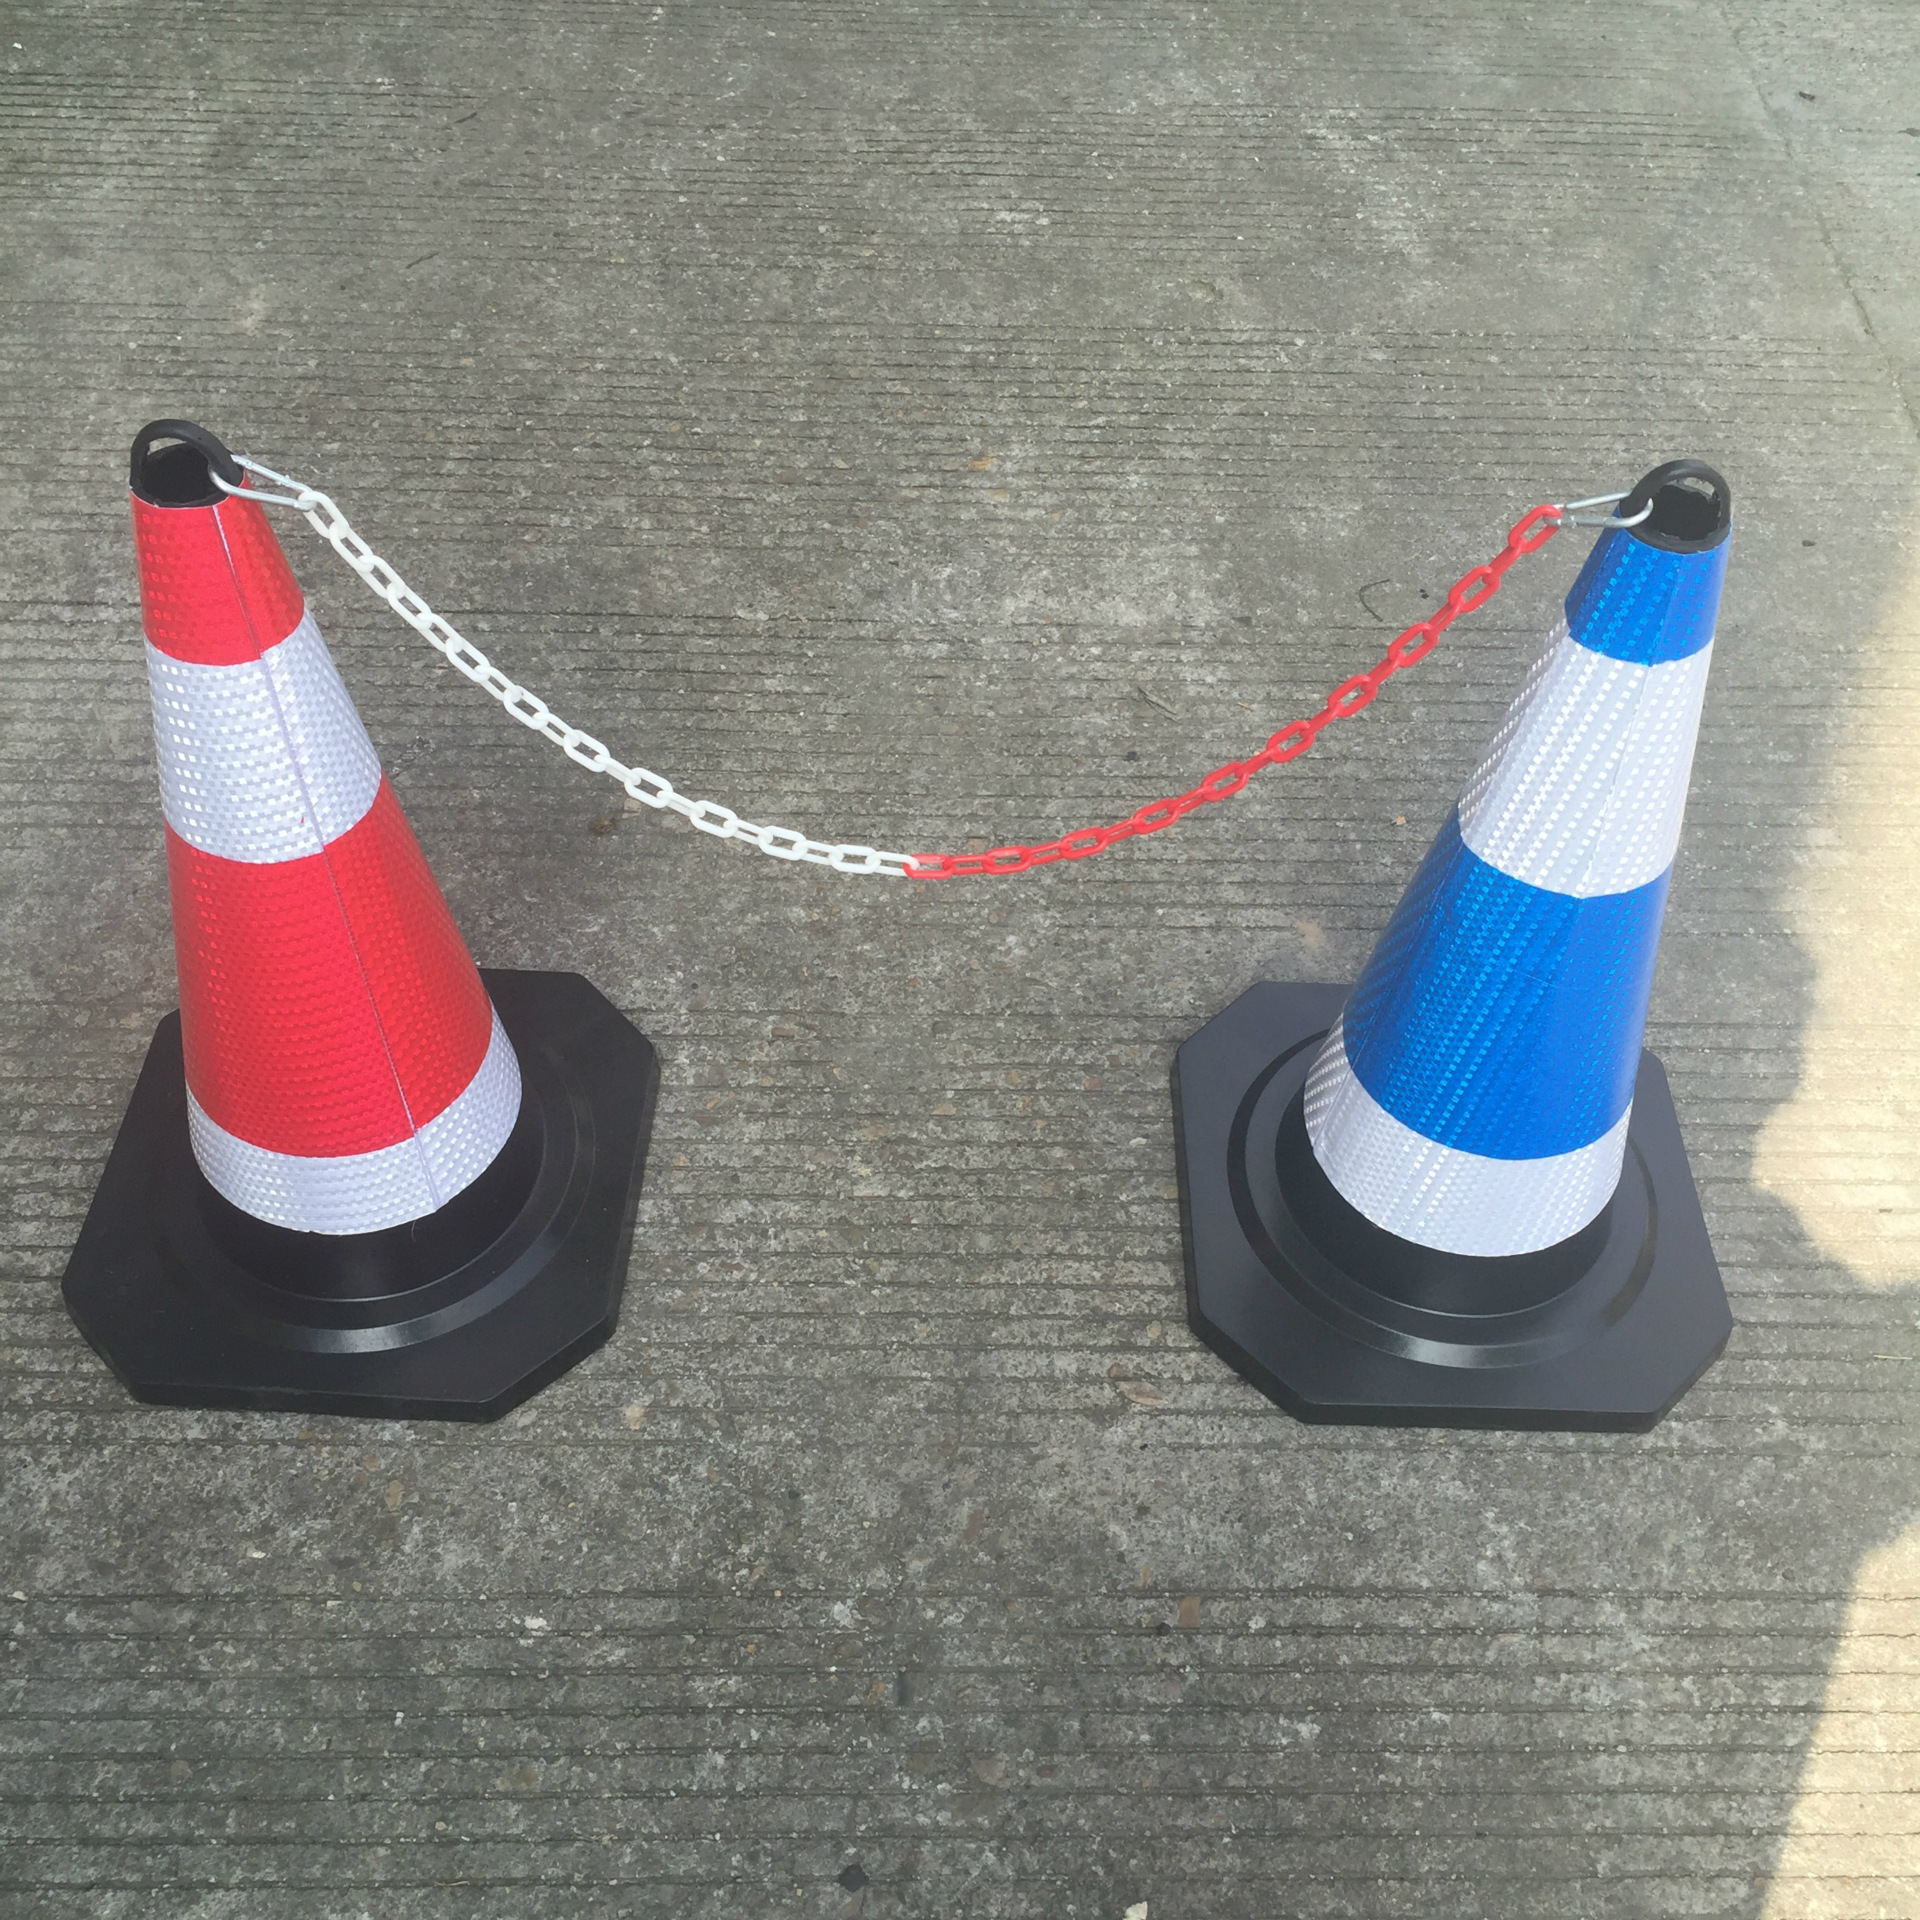traffic_cone: (56, 389, 1739, 1424)
